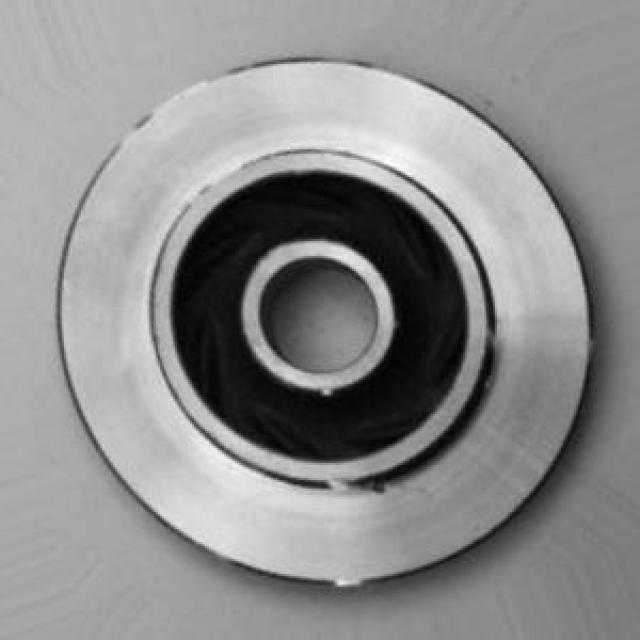Defect: (324, 468, 357, 502)
